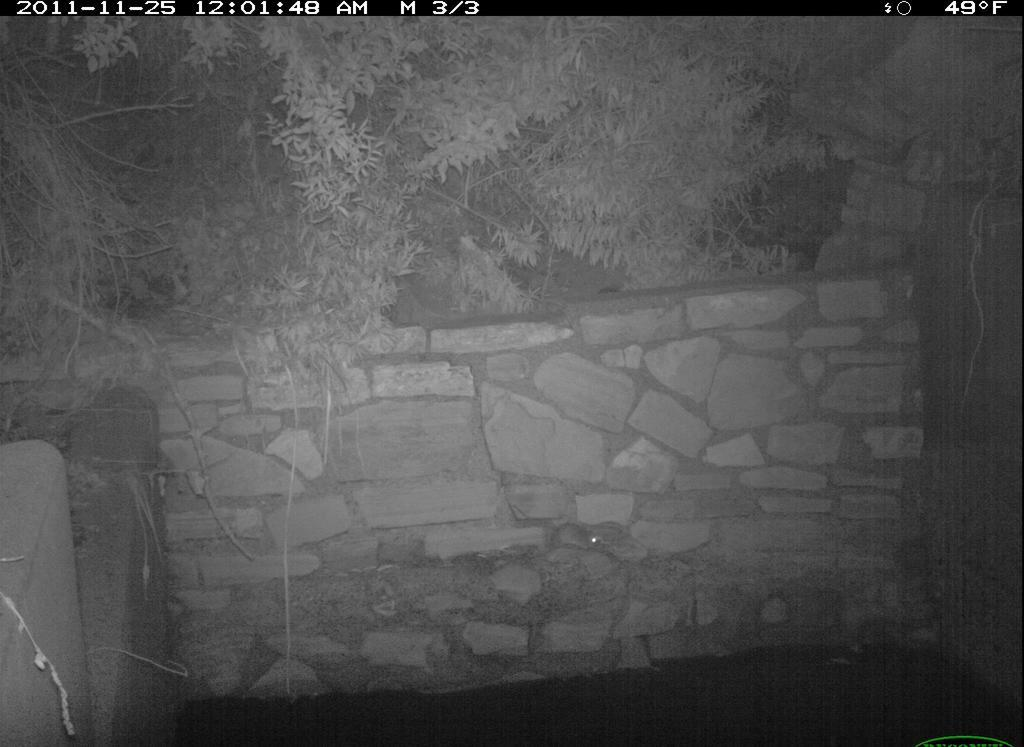rodent: (543, 510, 628, 569)
